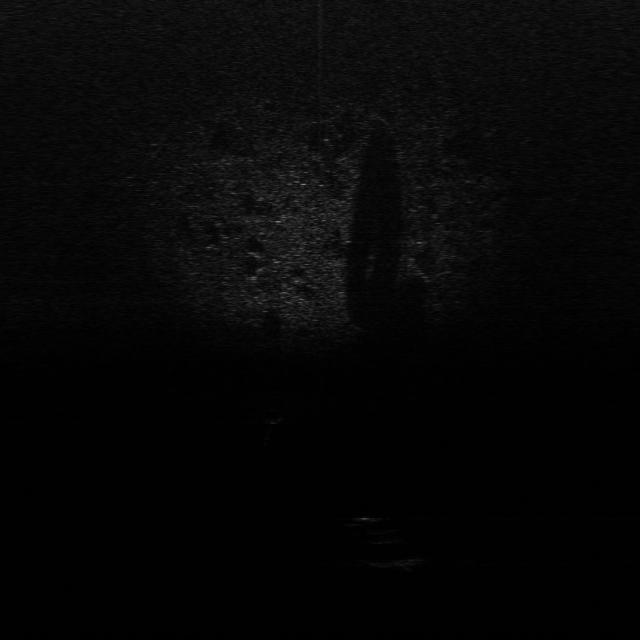ball: (262, 405, 284, 427)
metal bucket: (360, 554, 430, 571)
tyre: (344, 512, 398, 547)
